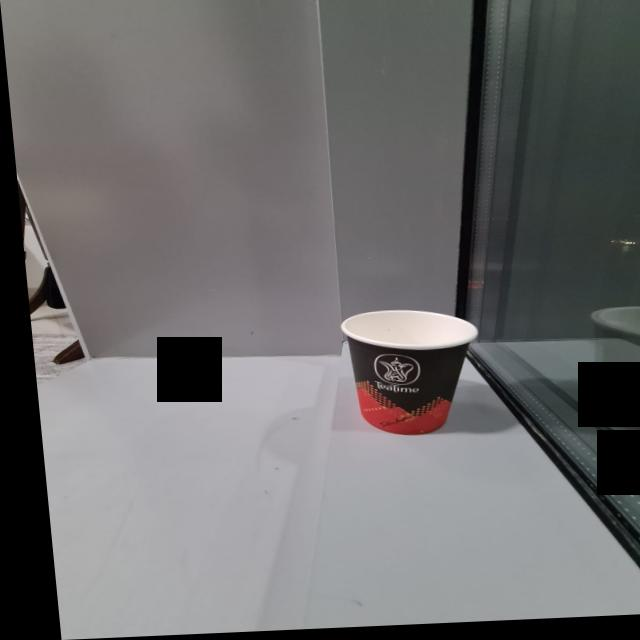cups: (329, 311, 483, 444)
